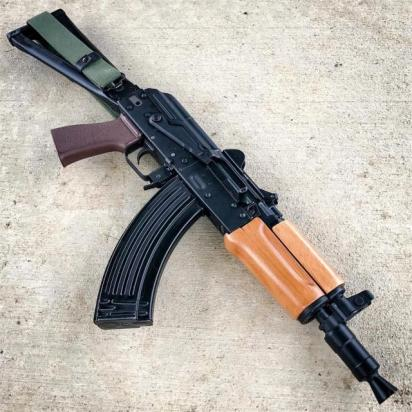Gun: (16, 14, 394, 383)
